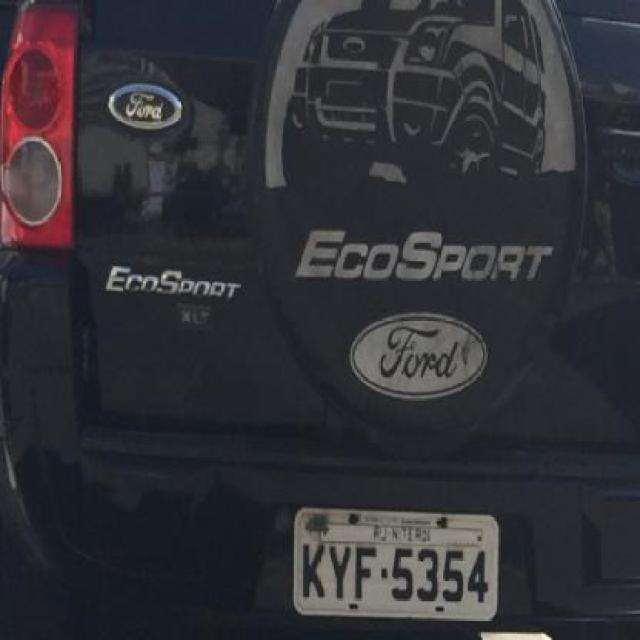old_plate: (289, 504, 504, 626)
